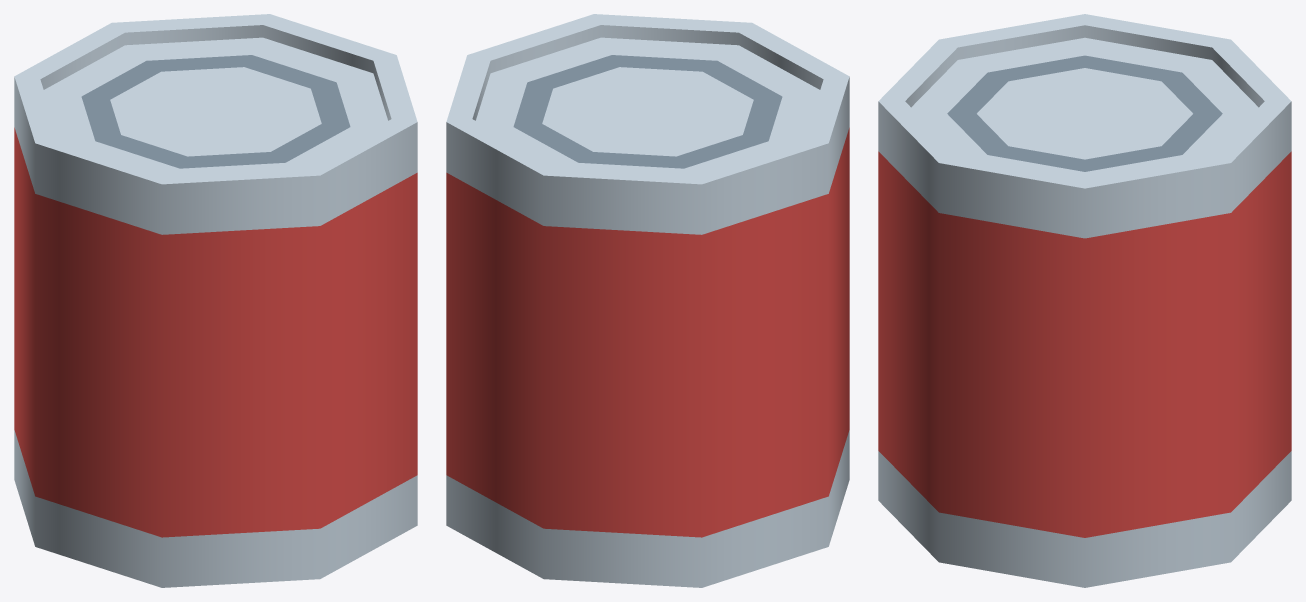
Rendered from can.gltf.
3 views of the same model, side by side, from view 1: azimuth 30°, elevation 25°; view 2: azimuth 150°, elevation 25°; view 3: azimuth 270°, elevation 25° (orthographic).
Visible parts, largest first — view 1: can; view 2: can; view 3: can.
Boxes of the visible parts, x1,y1,x2,y2 form: can: (14,14,417,587); can: (446,14,849,587); can: (878,14,1291,587).
Size of the model in its own units: 0.3 by 0.32 by 0.3.
